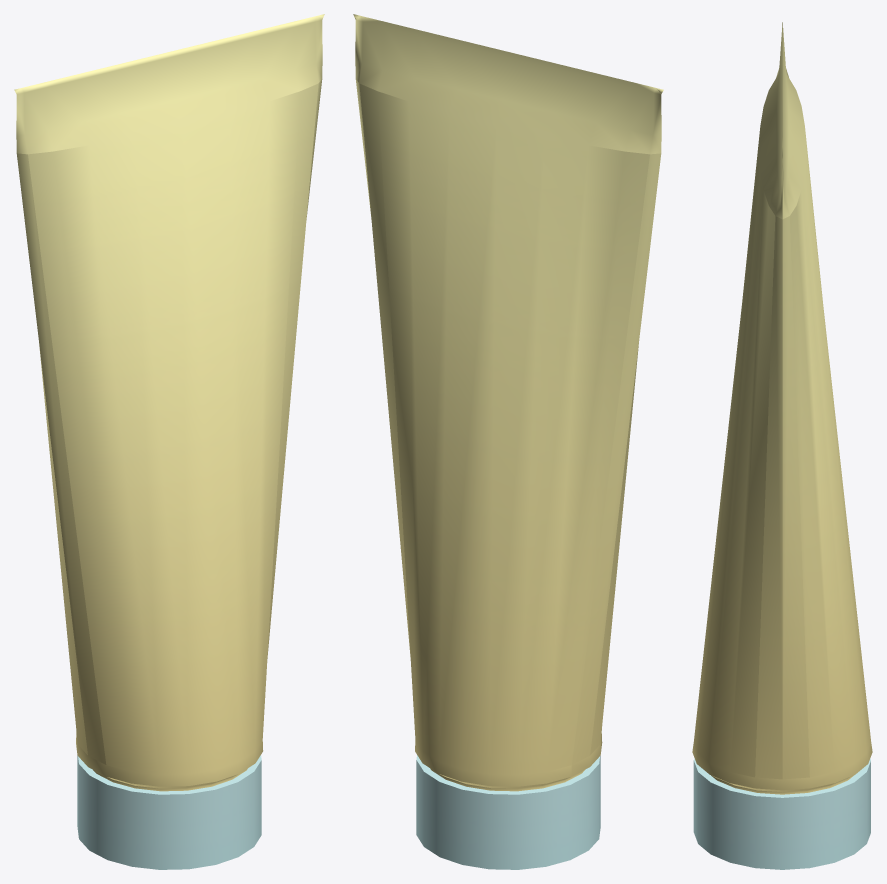
File: cream_white.fbx
3 views of the same model, side by side, from view 1: azimuth 30°, elevation 25°; view 2: azimuth 150°, elevation 25°; view 3: azimuth 270°, elevation 25° (orthographic). The views are drawn at different scales.
Parts seen in each view (by area): view 1: cream_white; view 2: cream_white; view 3: cream_white.
Part boxes in pixels (x1,y1,x2,y2): cream_white: (14, 14, 324, 869); cream_white: (353, 14, 663, 869); cream_white: (692, 22, 872, 869).
Bounding box in the file's own units: 74.11 × 178 × 38.9.
